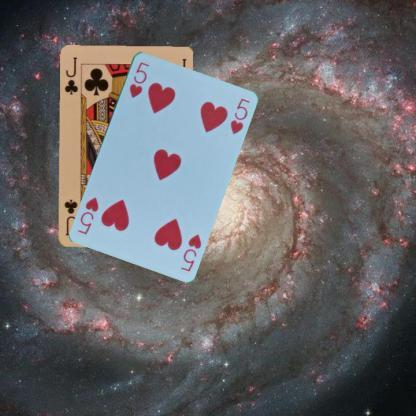5h: (178, 231, 202, 273), (126, 59, 150, 99)
Jc: (62, 54, 80, 96)
